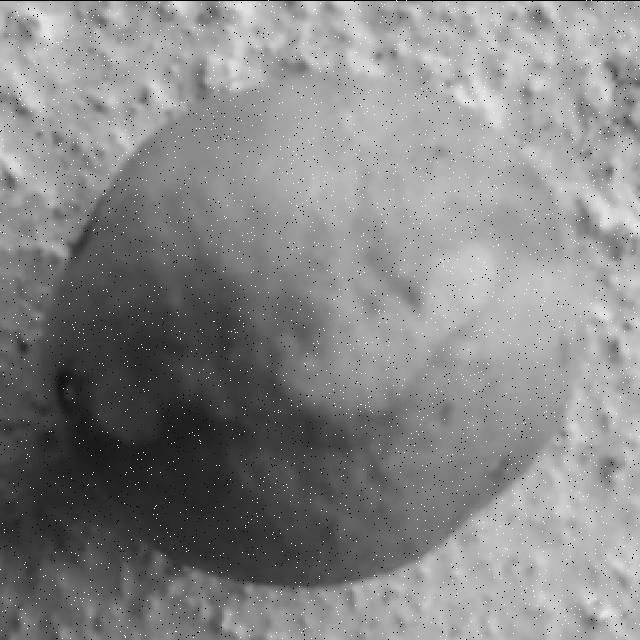overripe: (39, 66, 597, 590)
